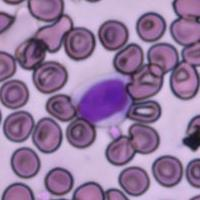L: (73, 71, 134, 126)
